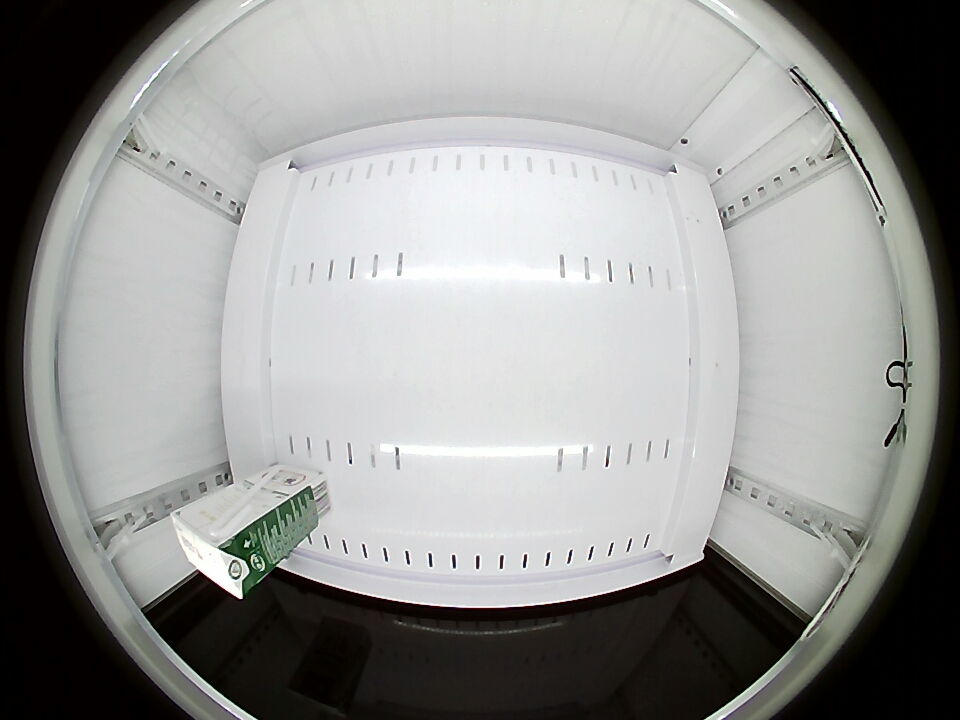jindian: (172, 503, 266, 601)
